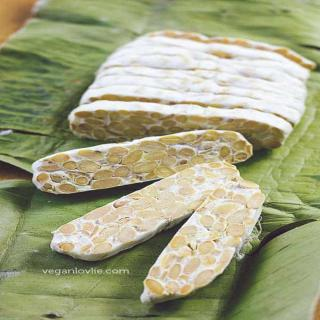Tempe: (31, 130, 254, 196), (69, 101, 295, 152)
